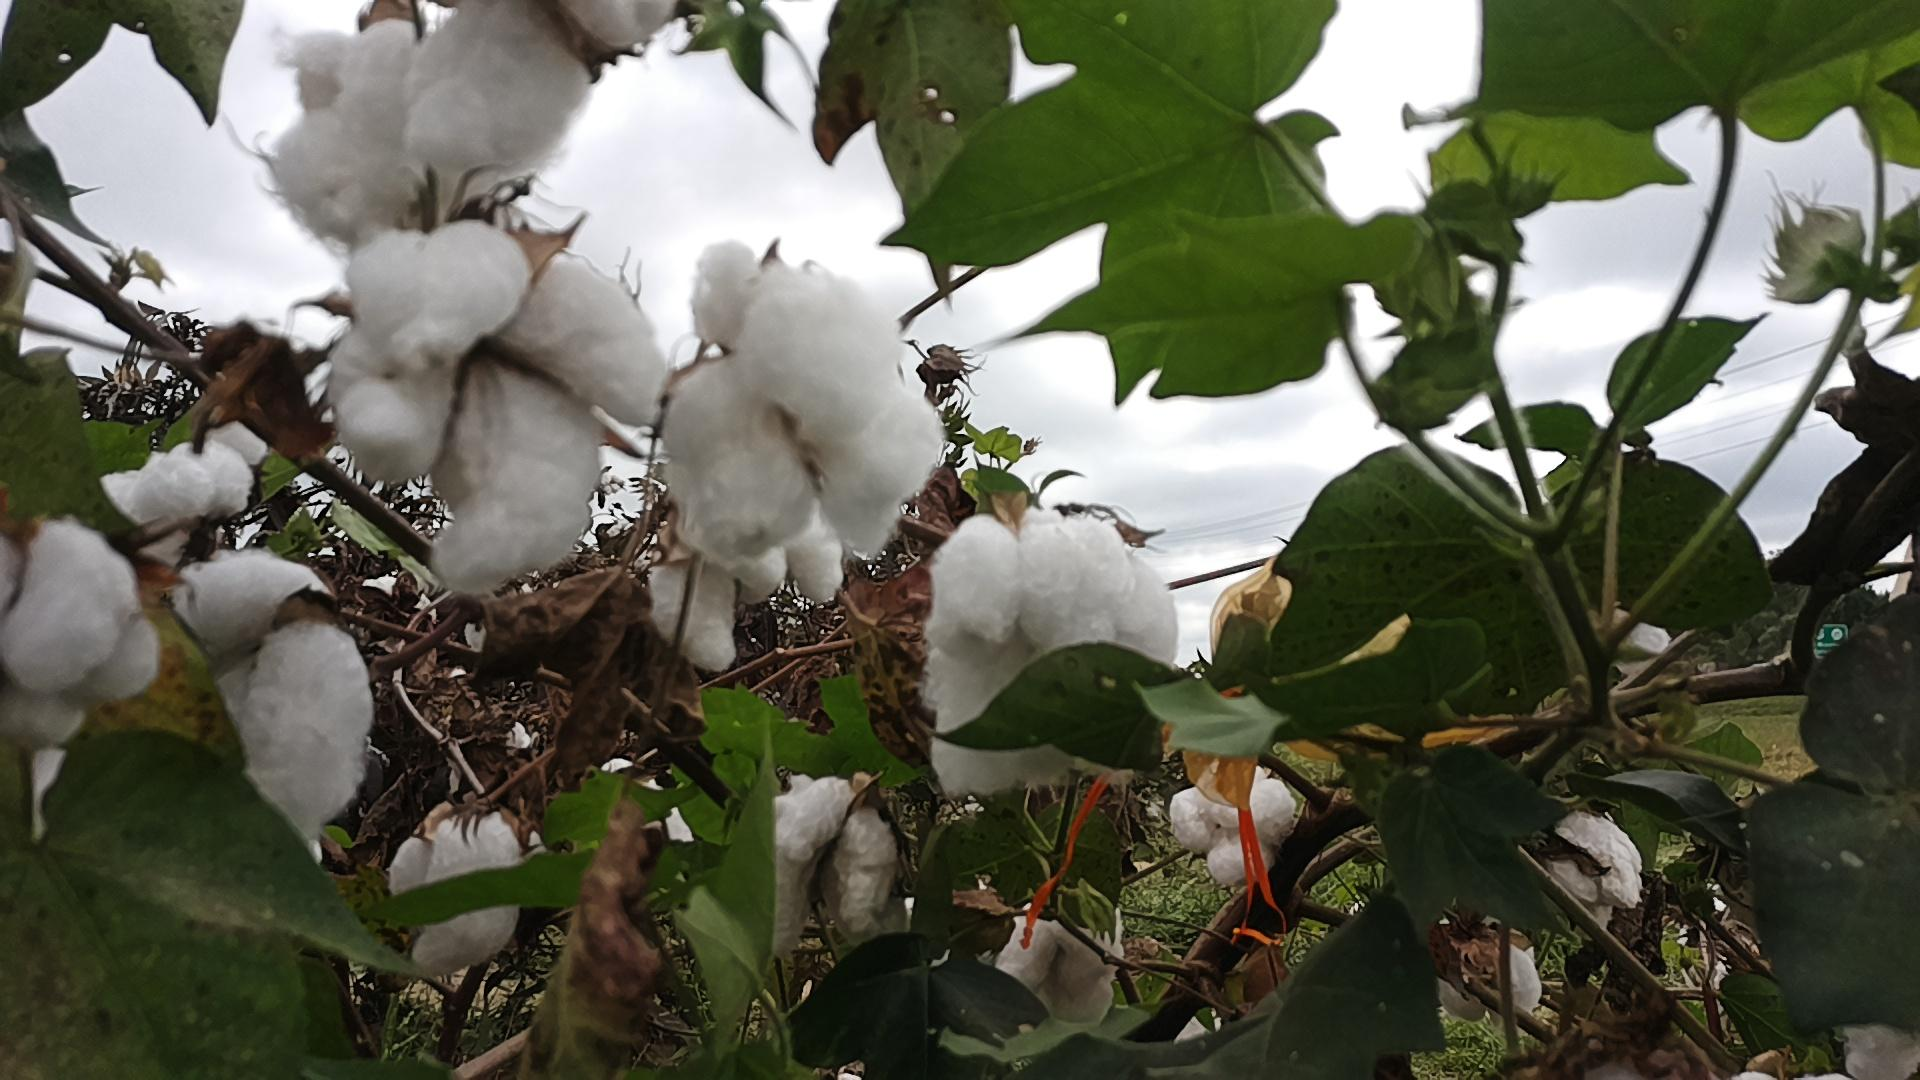cotton_ready: (326, 223, 667, 587), (670, 236, 942, 563), (268, 0, 600, 245), (926, 513, 1178, 789), (187, 550, 381, 839), (0, 505, 161, 738), (384, 803, 527, 982), (770, 773, 903, 965), (88, 418, 266, 537), (1001, 886, 1121, 1022), (1171, 761, 1296, 885)
